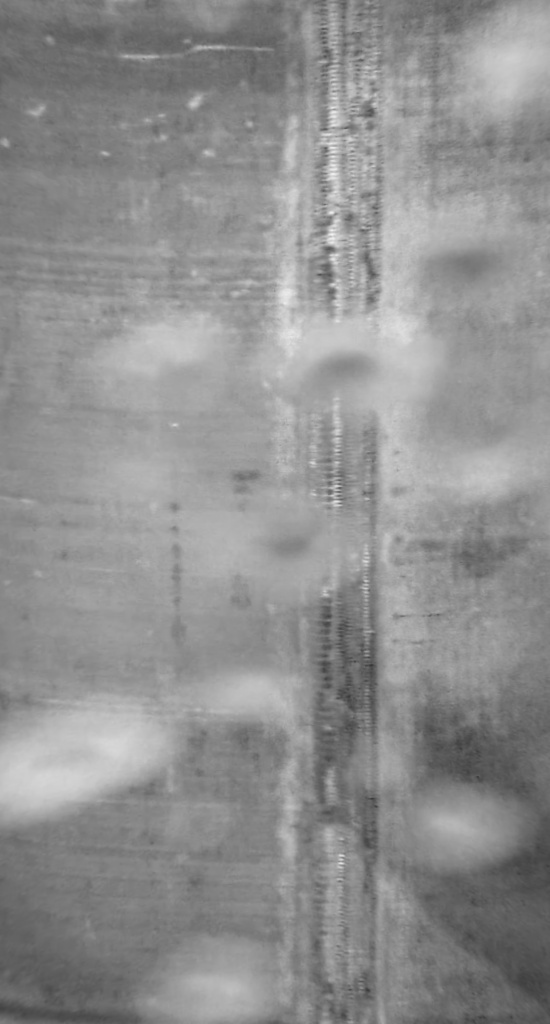splice: (284, 1, 381, 1023)
